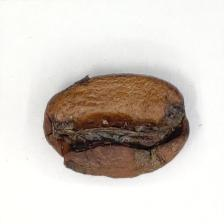NG: (45, 100, 187, 170)
